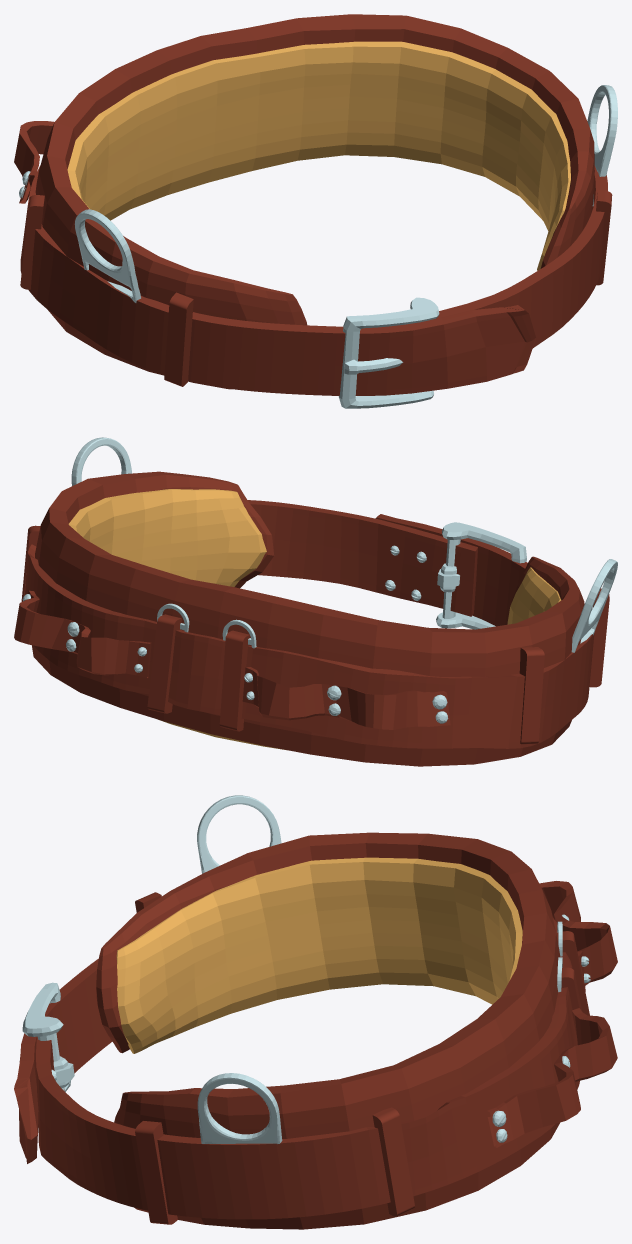
File: Cinturón Liniero Incorrecto.fbx
3 renders of one model, top to bottom at view 1: azimuth 30°, elevation 25°; view 2: azimuth 150°, elevation 25°; view 3: azimuth 270°, elevation 25°, orthographic. The views are drawn at different scales.
Parts seen in each view (by area): view 1: cafe; view 2: cafe; view 3: cafe.
Part boxes in pixels (bbox=[...]): cafe: bbox=[14, 14, 617, 408]; cafe: bbox=[14, 437, 617, 766]; cafe: bbox=[14, 795, 617, 1229].
Size of the model in its own units: 258 by 91.19 by 231.
